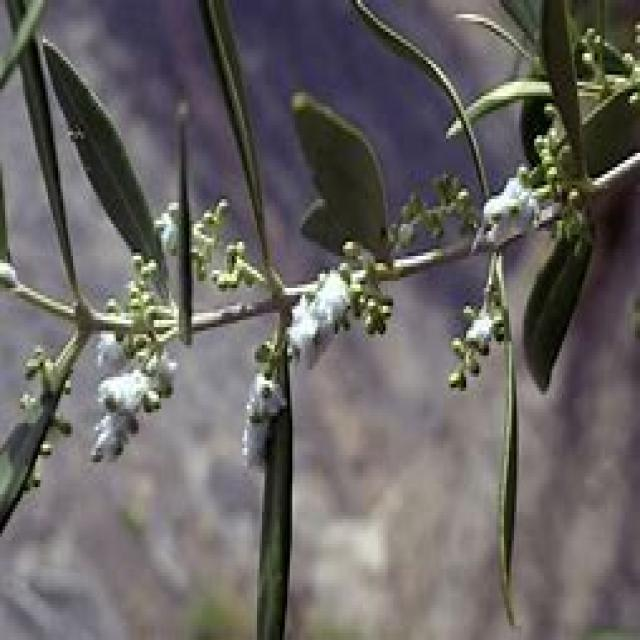Psyllid: (90, 334, 176, 455), (471, 164, 539, 248), (288, 267, 348, 359), (451, 277, 506, 373), (242, 374, 287, 466)
